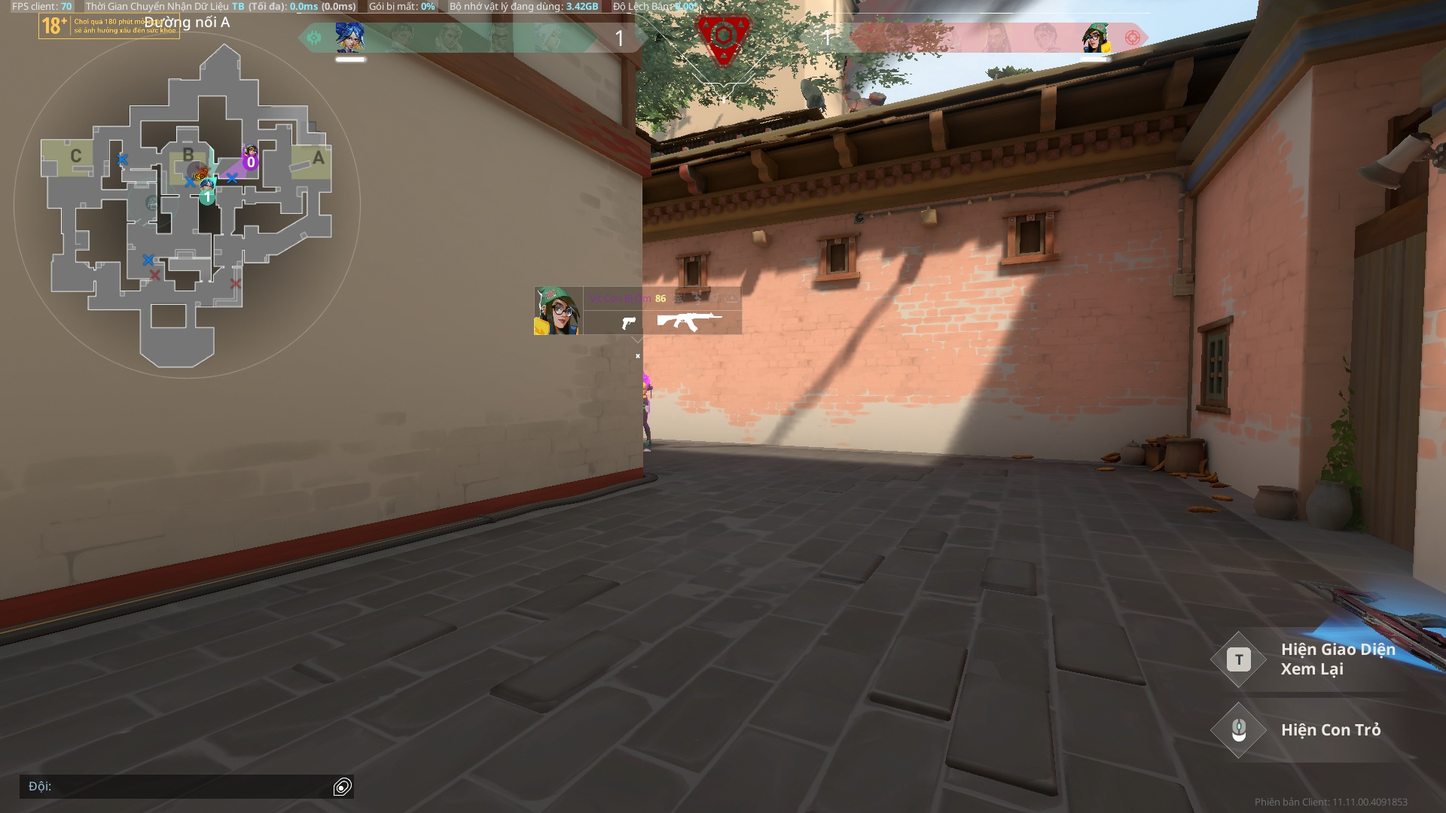body: (642, 370, 650, 398)
